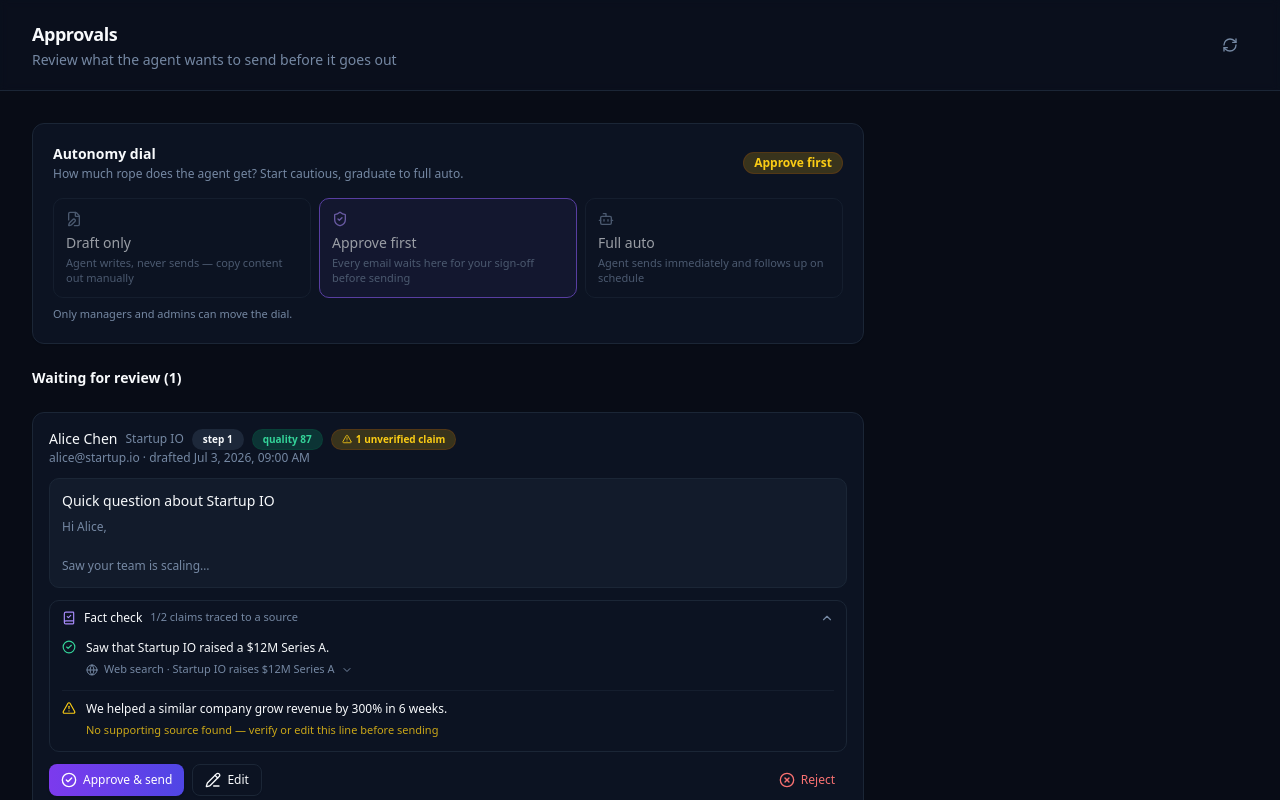
Test case: Approvals page › lets the reviewer edit before approving
The width and height of the screenshot is (1280, 800).
expect the text "Alice Chen" is shown: met, box [49,429,118,449]
Step 1. Click the button "Edit" → (227, 780), box [192,764,262,796]
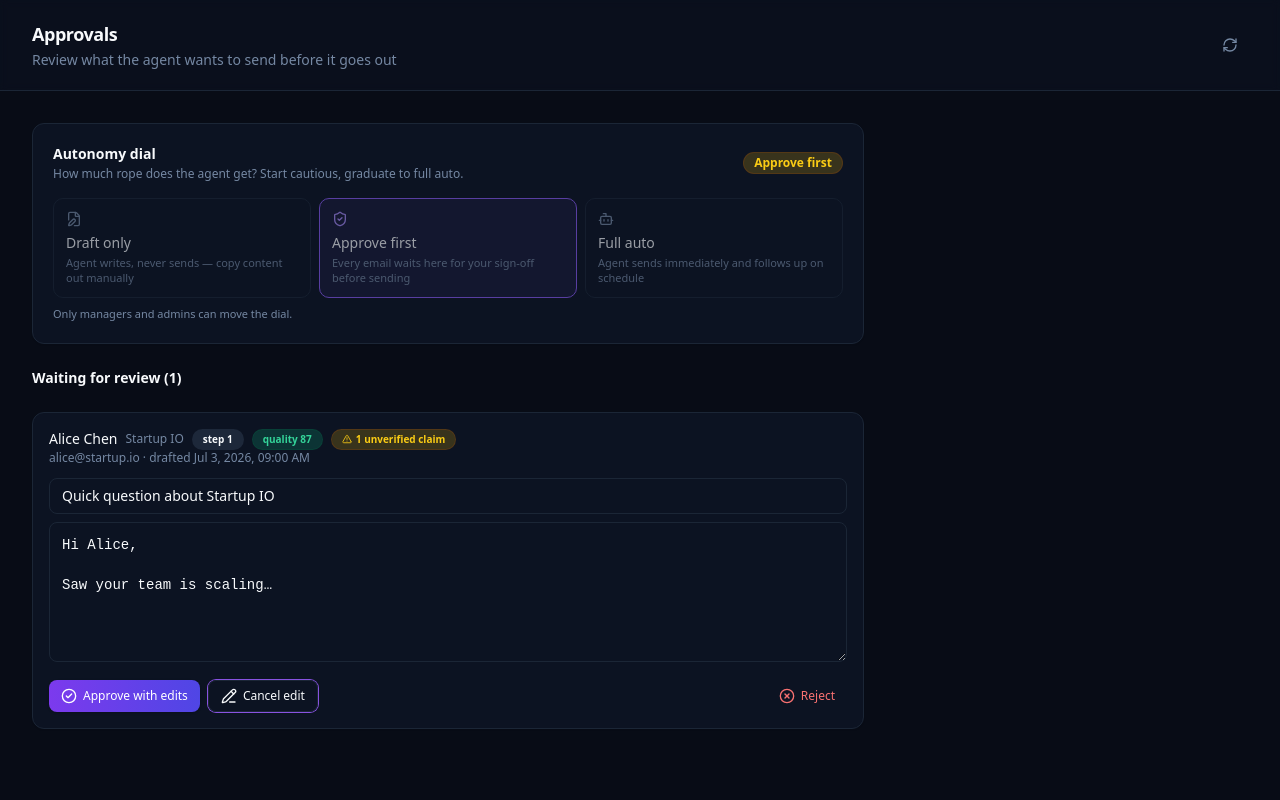
expect the field named "Email subject" holds "Quick question about Startup IO": met, box [49,478,847,514]
expect the button "Approve with edits" is shown: met, box [49,680,200,712]
